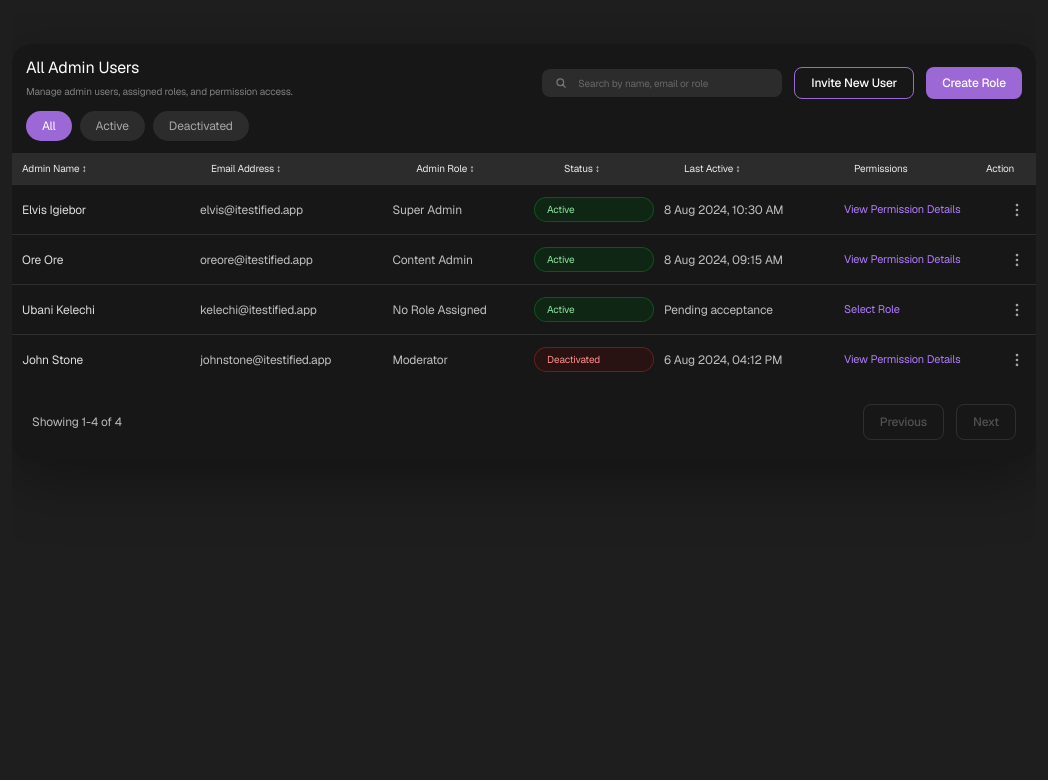
admin management page › opens and closes admin row menu without an extra fetch
Click the button named "Open admin actions 1" at {"x": 1017, "y": 210}, box [1008,200,1026,218]
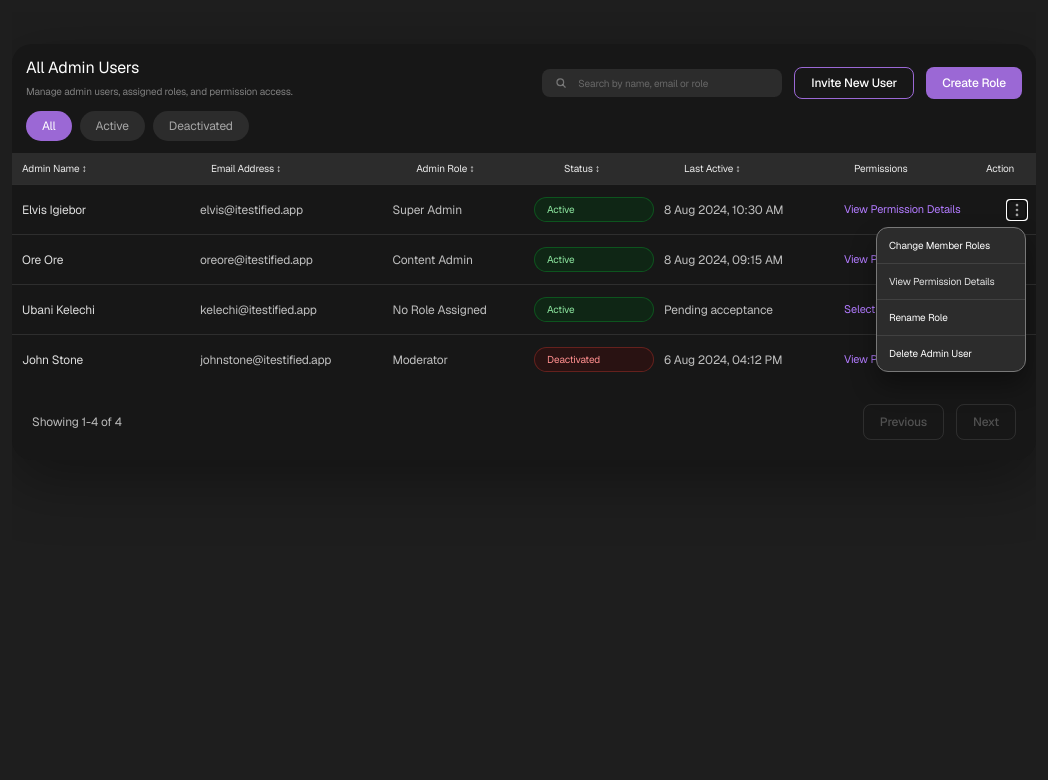
Click the button named "Close admin actions menu" at {"x": 524, "y": 396}, box [12,12,1036,779]
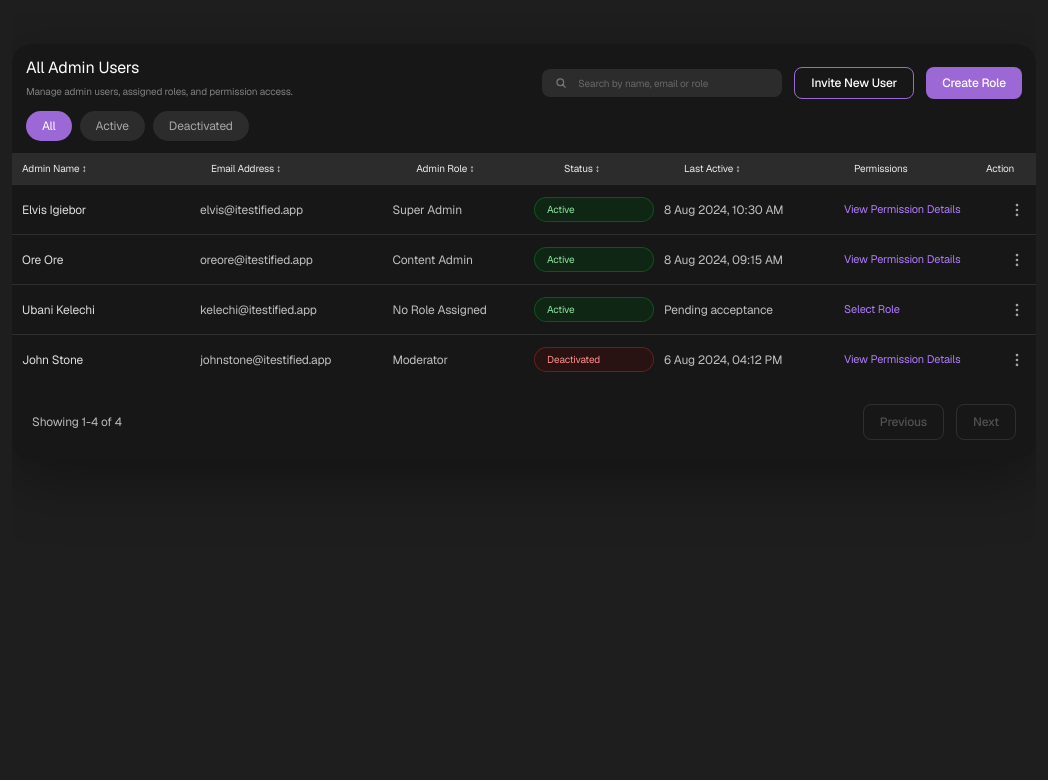
Check: the link "Change Member Roles" is gone
